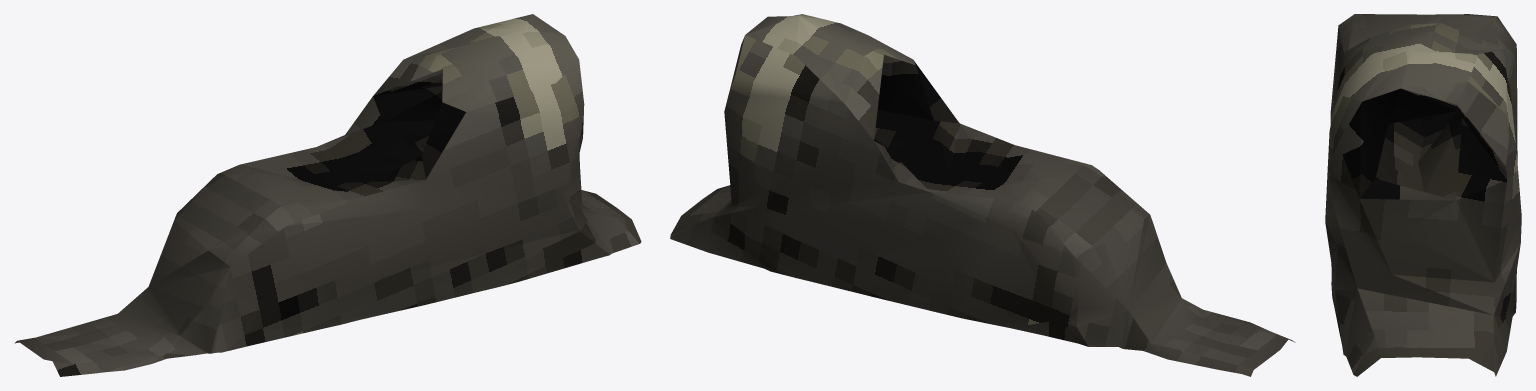
The model's file is mira.glb.
The picture shows the model from 3 angles, left to right: view 1: azimuth 30°, elevation 25°; view 2: azimuth 150°, elevation 25°; view 3: azimuth 270°, elevation 25°; orthographic projection. The views are drawn at different scales.
Visible parts, largest first — view 1: geometry_0; view 2: geometry_0; view 3: geometry_0.
Boxes of the visible parts, <box> form: geometry_0: <box>15,14,641,376</box>; geometry_0: <box>670,14,1295,376</box>; geometry_0: <box>1325,14,1521,376</box>.
Size of the model in its own units: 0.34 by 0.1243 by 0.0823.
Materials: 1 (1 with a texture image).
